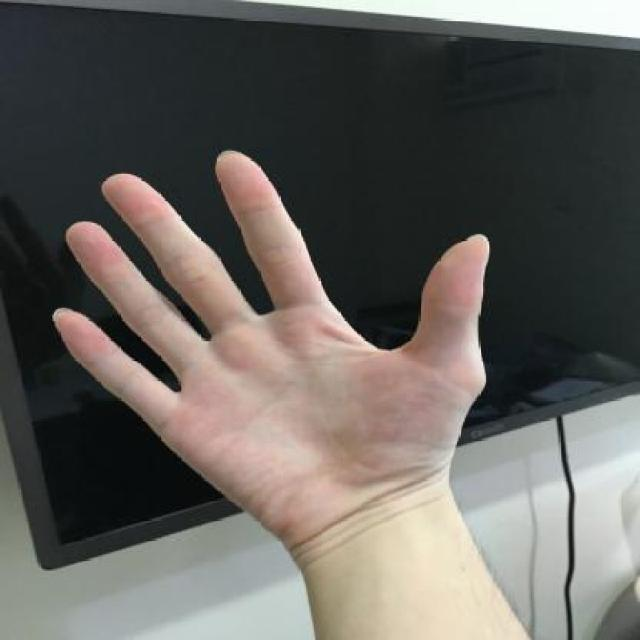bare_hand: (41, 142, 500, 553)
